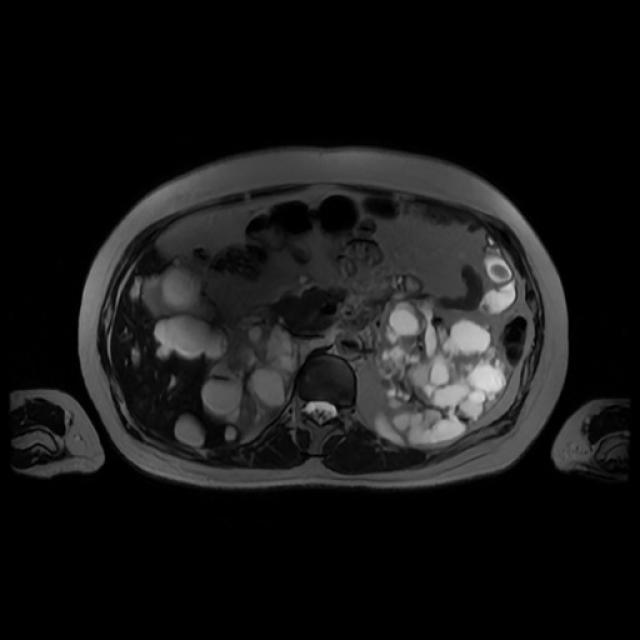sag: (208, 315, 296, 434)
sol: (376, 298, 511, 445)
